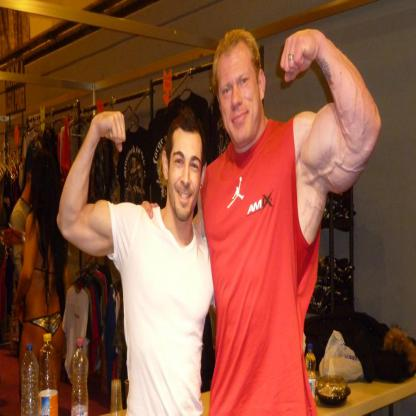face: (220, 44, 261, 145), (169, 128, 203, 219)
